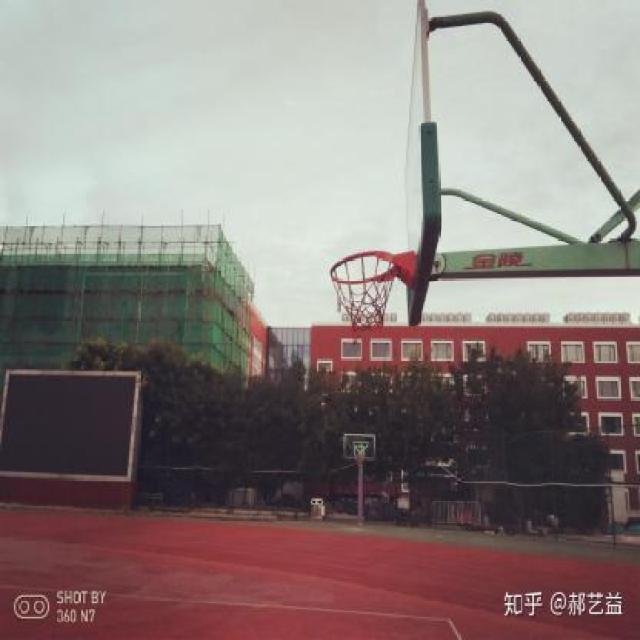rim: (330, 250, 394, 334)
